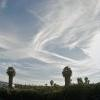Tree: (59, 63, 90, 86)
